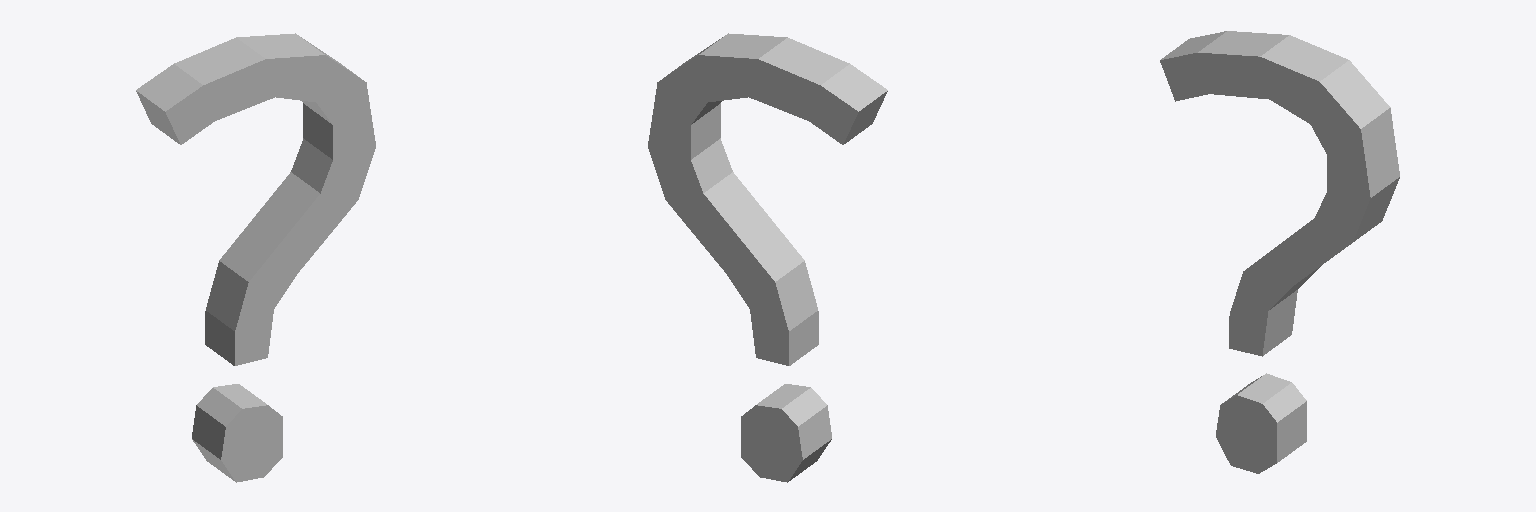
Rendered from placeholder.obj.
3 views of the same model, side by side, from view 1: azimuth 30°, elevation 25°; view 2: azimuth 150°, elevation 25°; view 3: azimuth 330°, elevation 25° (orthographic).
Visible parts, largest first — view 1: Text_Mesh; view 2: Text_Mesh; view 3: Text_Mesh.
Part boxes in pixels (left/top/right/bottom): Text_Mesh: left=136, top=33, right=375, bottom=482; Text_Mesh: left=648, top=33, right=887, bottom=482; Text_Mesh: left=1160, top=31, right=1399, bottom=473.
Size of the model in its own units: 0.2958 by 0.5597 by 0.0718.